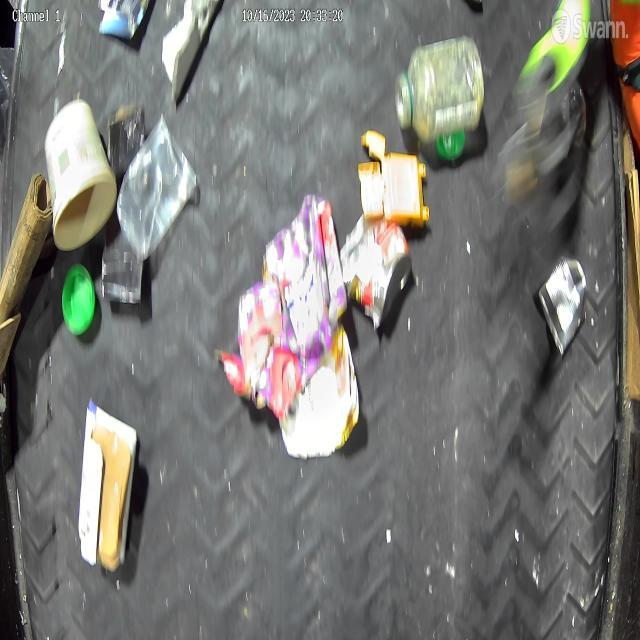can: (340, 216, 412, 329), (540, 256, 588, 355)
